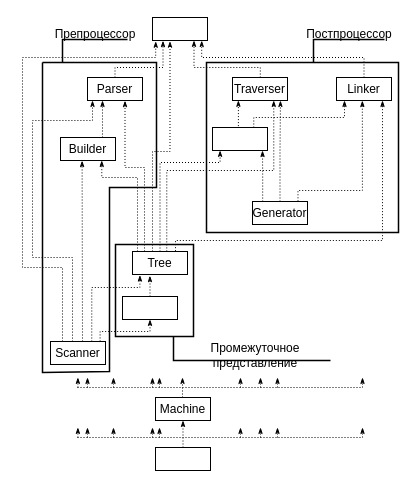
This 417x488 diagram has some shape labels left out. Each missing label, with the box of its shape:
Emitter: (212, 126, 268, 150)
Moc: (152, 16, 208, 40)
MocErrors: (154, 446, 210, 470)
Table: (122, 296, 178, 320)
